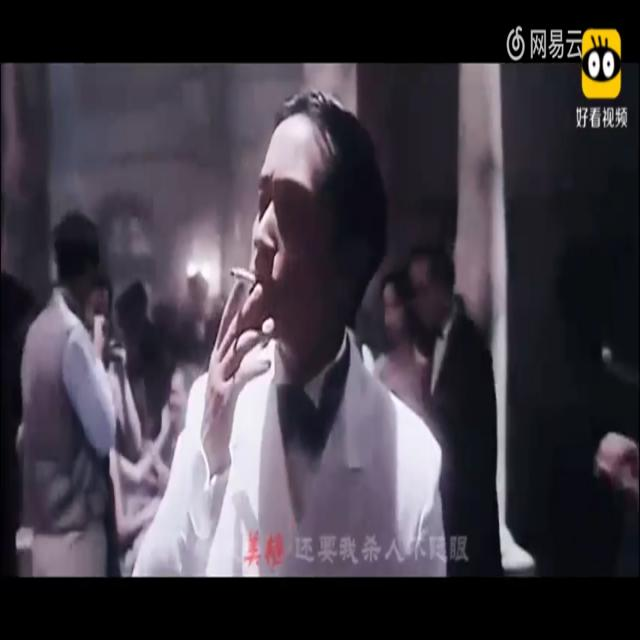smoke: (223, 264, 260, 294)
